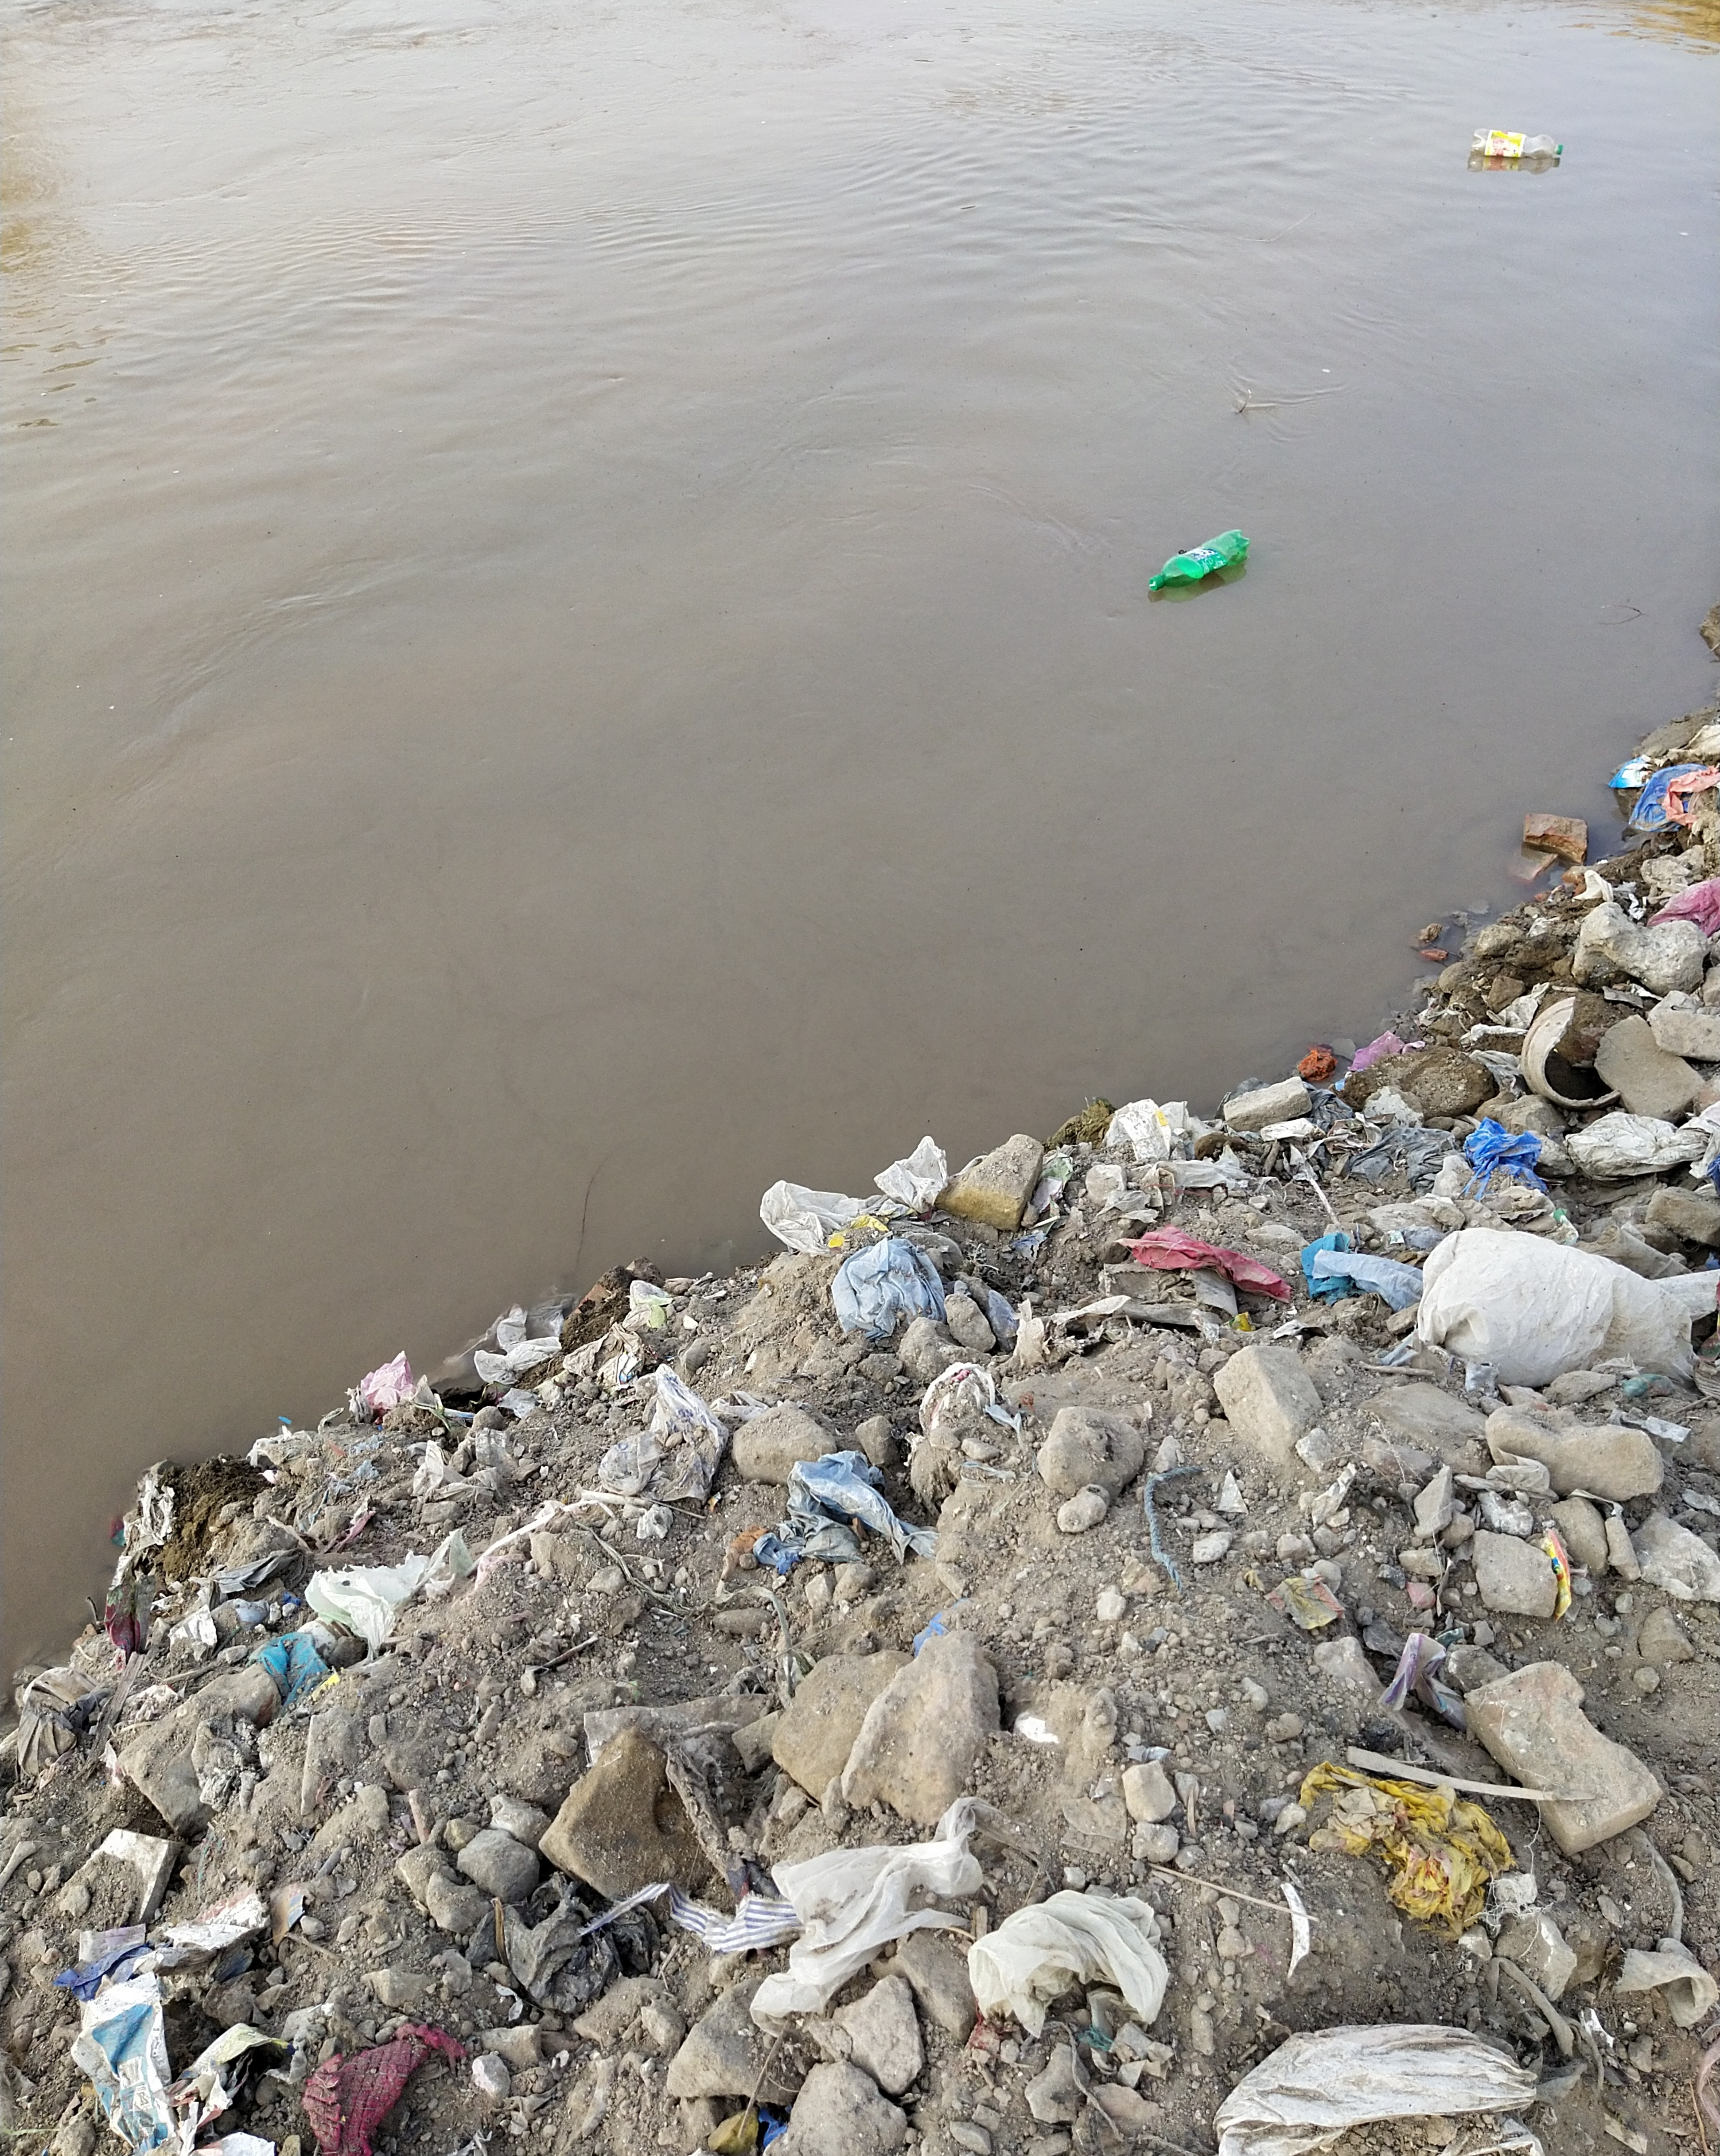Plastic Bottle: (1148, 528, 1251, 591), (1471, 128, 1562, 160)
